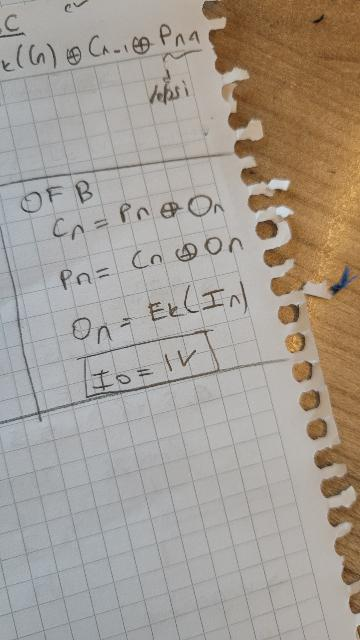Kagit: (0, 2, 359, 639)
